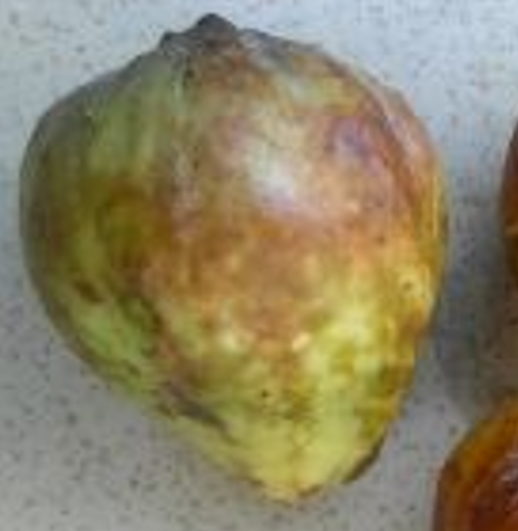guava_C: (21, 13, 448, 504)
